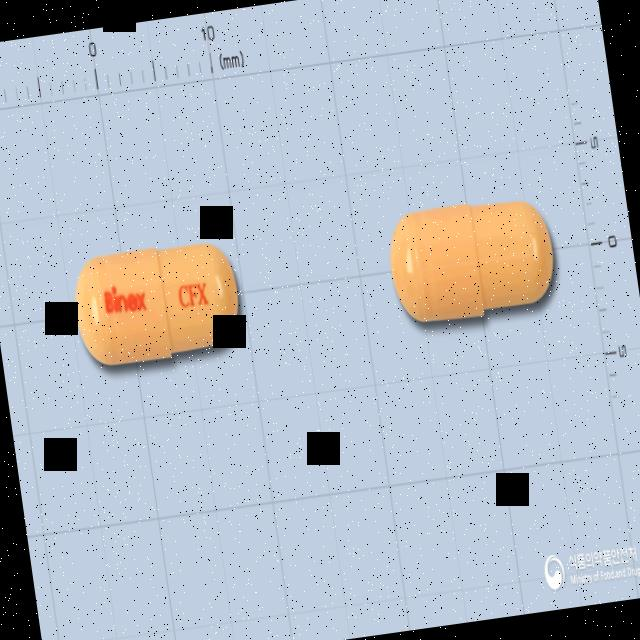Cefixime Cap: (66, 234, 251, 378)
